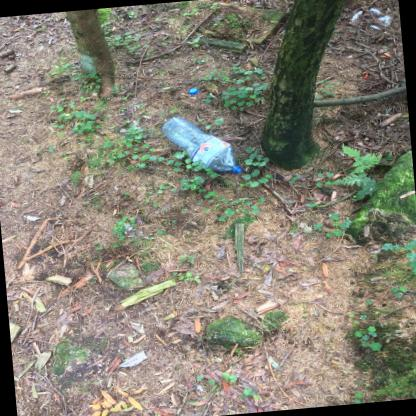Clear plastic bottle: (162, 117, 243, 174)
Plastic bottle cap: (189, 88, 198, 95)
